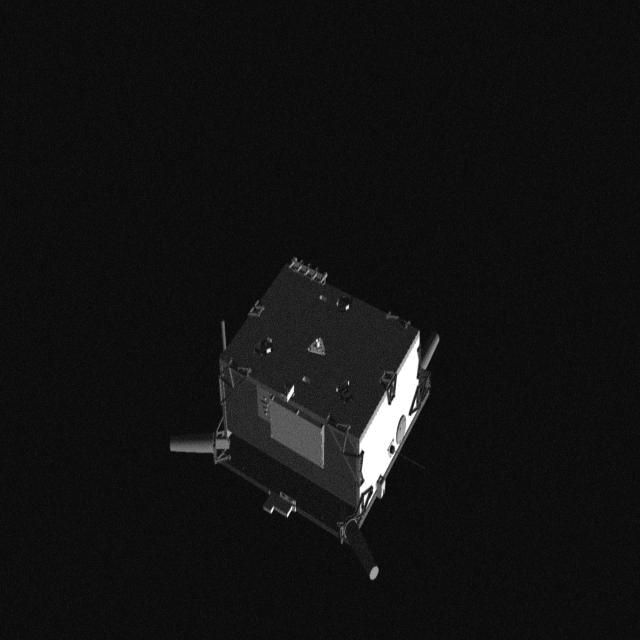medium_debris: (154, 258, 456, 586)
